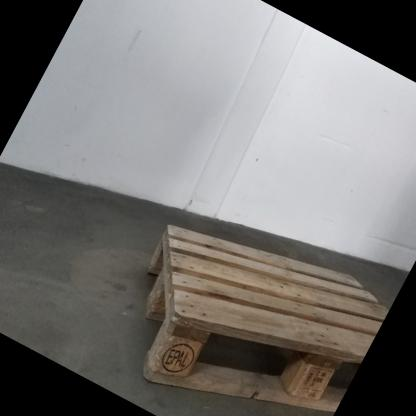BoxFace: (137, 221, 390, 416)
